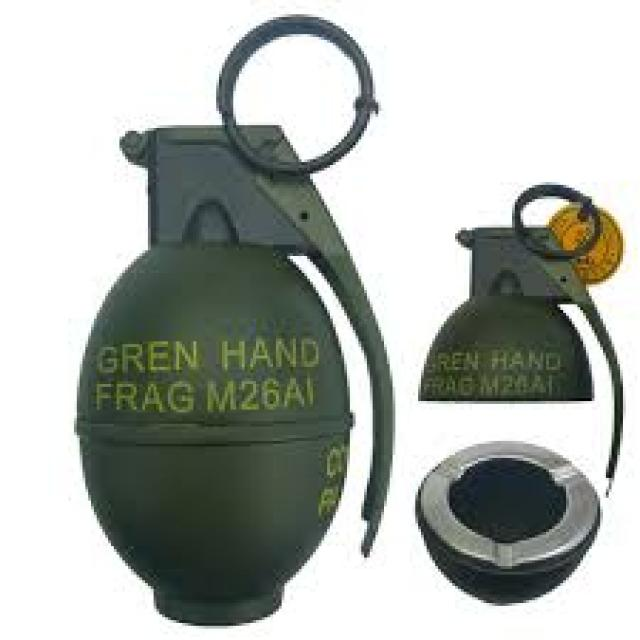grenade: (71, 10, 392, 638)
